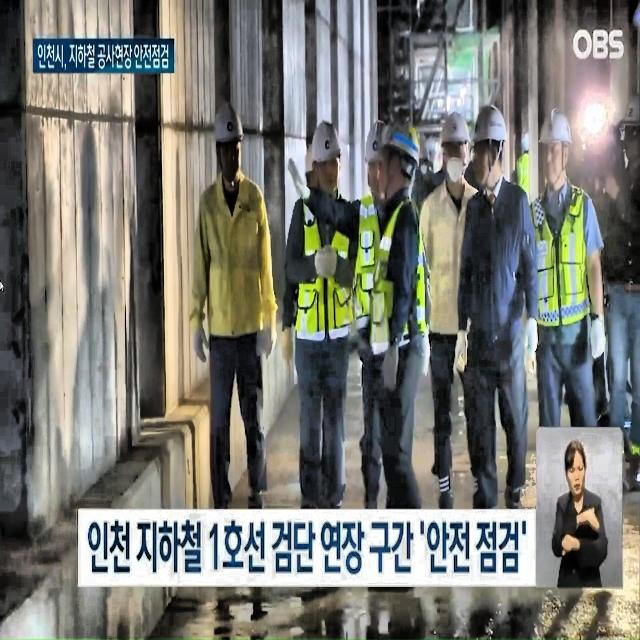safety_helmet: (384, 113, 423, 169), (468, 102, 509, 147), (212, 100, 246, 148), (538, 106, 574, 150), (308, 120, 344, 161), (363, 120, 391, 167), (441, 110, 472, 148), (618, 94, 640, 131), (518, 130, 534, 152), (304, 145, 316, 173)
safety_jacket: (526, 183, 598, 328), (372, 197, 430, 359), (294, 196, 356, 334), (352, 190, 381, 329)
